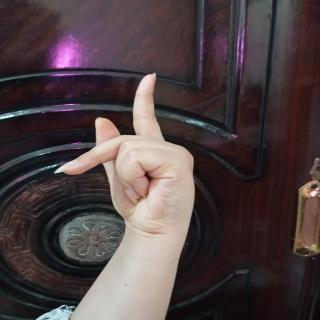DHAA: (52, 70, 206, 264)
